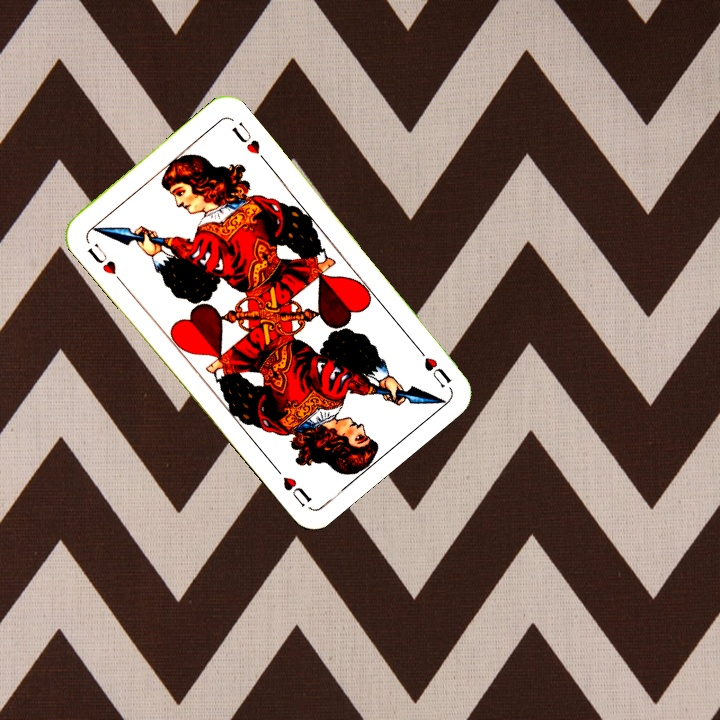HU: (411, 340, 455, 391), (83, 239, 119, 278)
